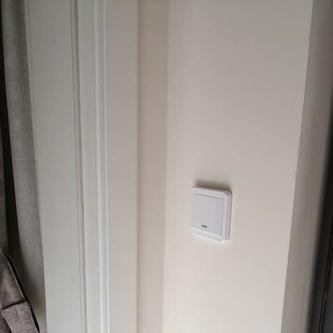switch: (190, 191, 230, 238)
